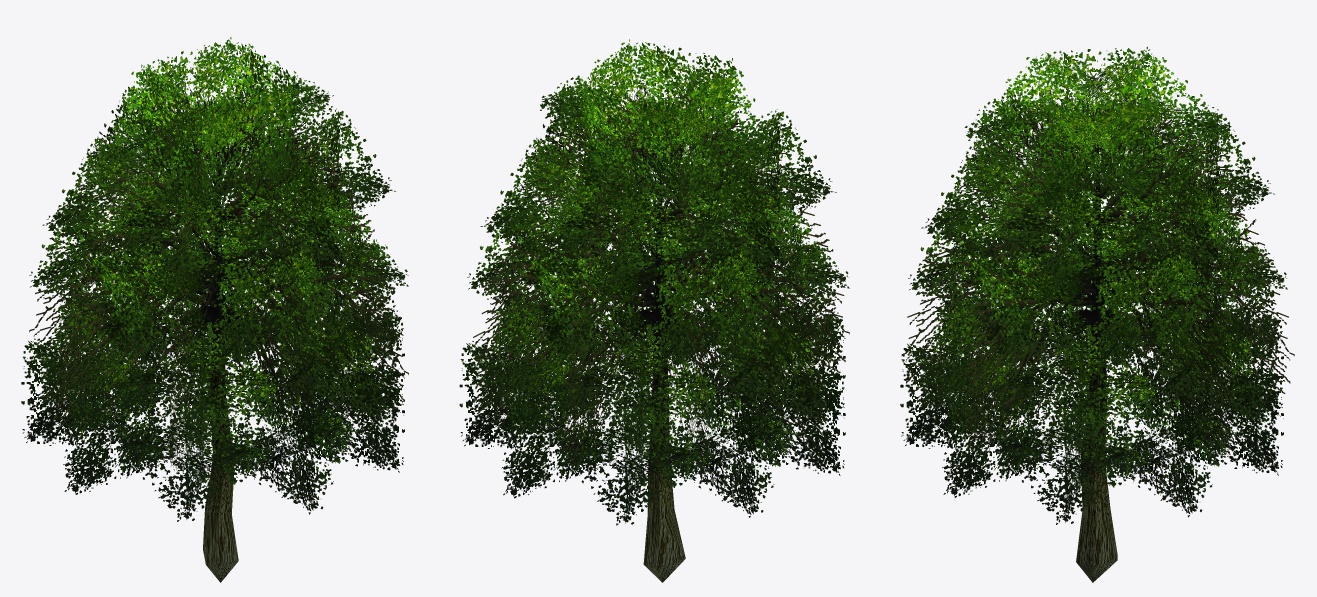
Rendered from esdoorn_2.fbx.
The picture shows the model from 3 angles, left to right: view 1: azimuth 30°, elevation 25°; view 2: azimuth 150°, elevation 25°; view 3: azimuth 270°, elevation 25°; orthographic projection.
Visible parts, largest first — view 1: esdoorn_2; view 2: esdoorn_2; view 3: esdoorn_2.
Boxes of the visible parts, x1,y1,x2,y2 form: esdoorn_2: (21,37,408,582); esdoorn_2: (459,39,849,582); esdoorn_2: (900,46,1294,582).
Size of the model in its own units: 1358 by 1864 by 1337.
